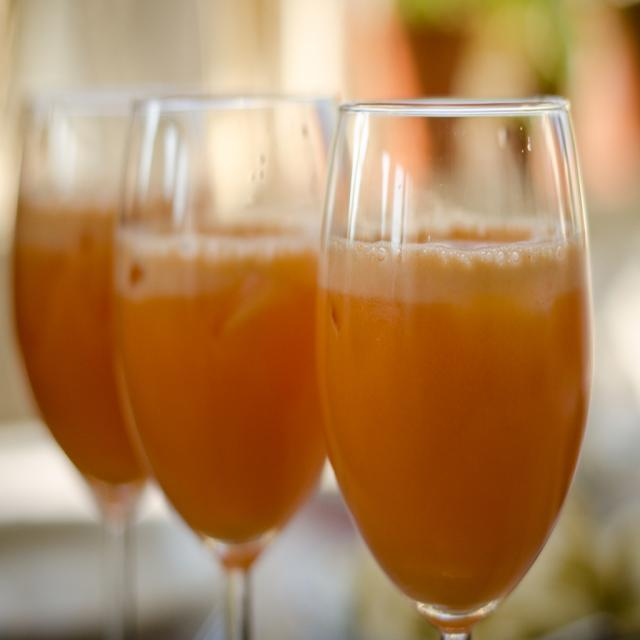Juice: (315, 213, 595, 617), (111, 213, 325, 580), (15, 204, 157, 502)
